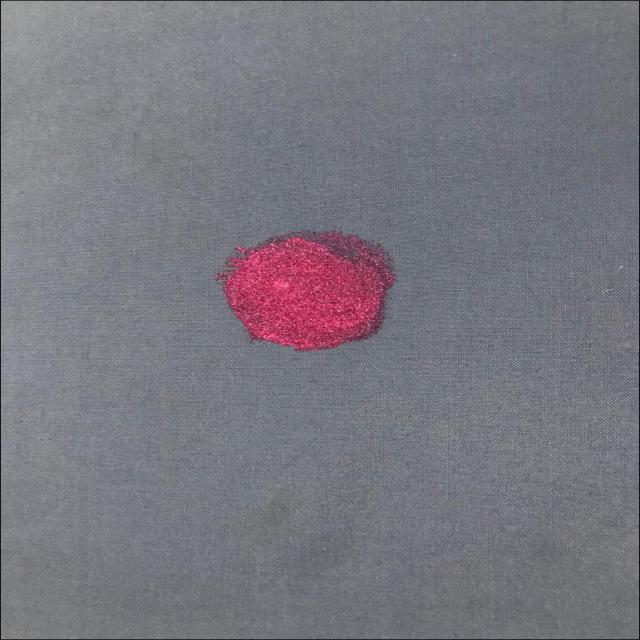Stain: (217, 231, 395, 351)
